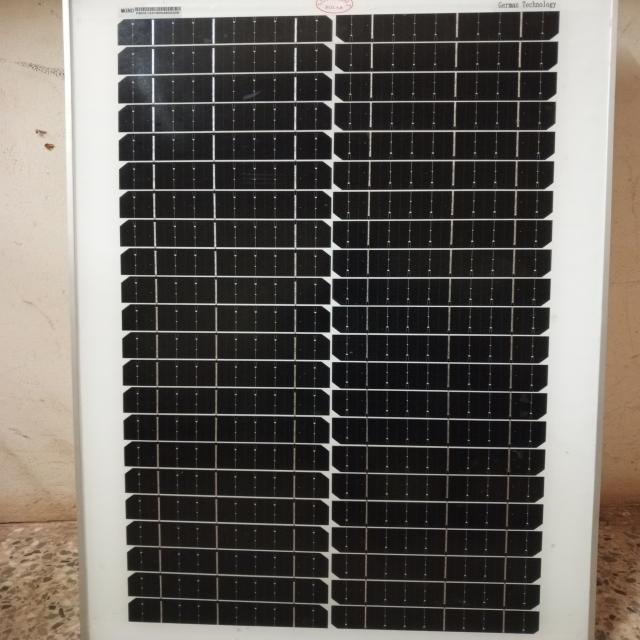Clean: (93, 2, 552, 636)
